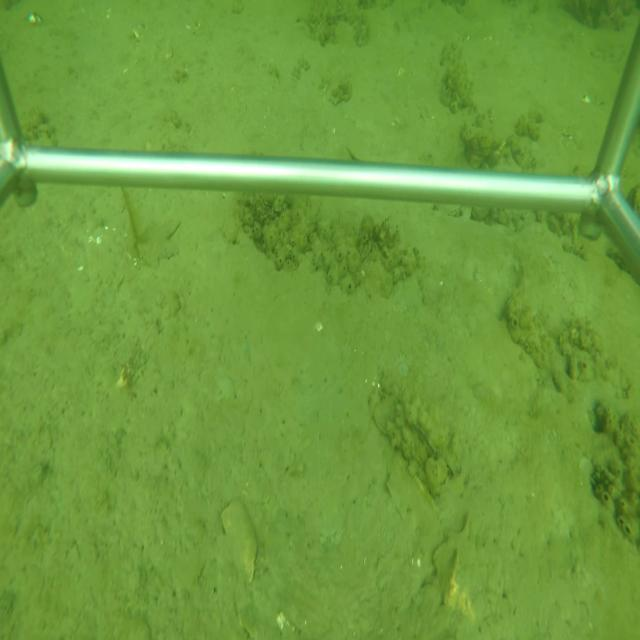Oyster-Closed: (401, 412, 459, 485)
